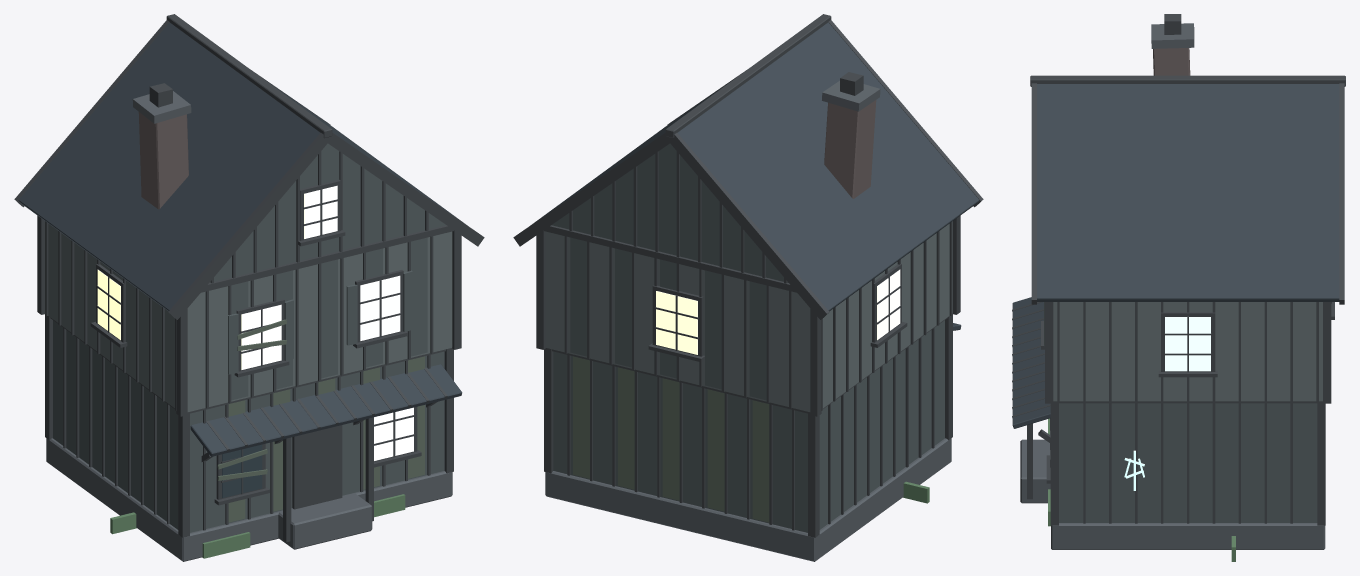
Rendered from outdoor_townhouse.glb.
The picture shows the model from 3 angles, left to right: view 1: azimuth 30°, elevation 25°; view 2: azimuth 150°, elevation 25°; view 3: azimuth 270°, elevation 25°; orthographic projection.
Parts seen in each view (by area): view 1: Outdoor_Townhouse; view 2: Outdoor_Townhouse; view 3: Outdoor_Townhouse.
Boxes of the visible parts, bbox=[...] form: Outdoor_Townhouse: bbox=[14, 14, 484, 561]; Outdoor_Townhouse: bbox=[513, 14, 983, 561]; Outdoor_Townhouse: bbox=[1012, 14, 1345, 561].
Bounding box in the file's own units: 9.64 × 12.18 × 8.76.
